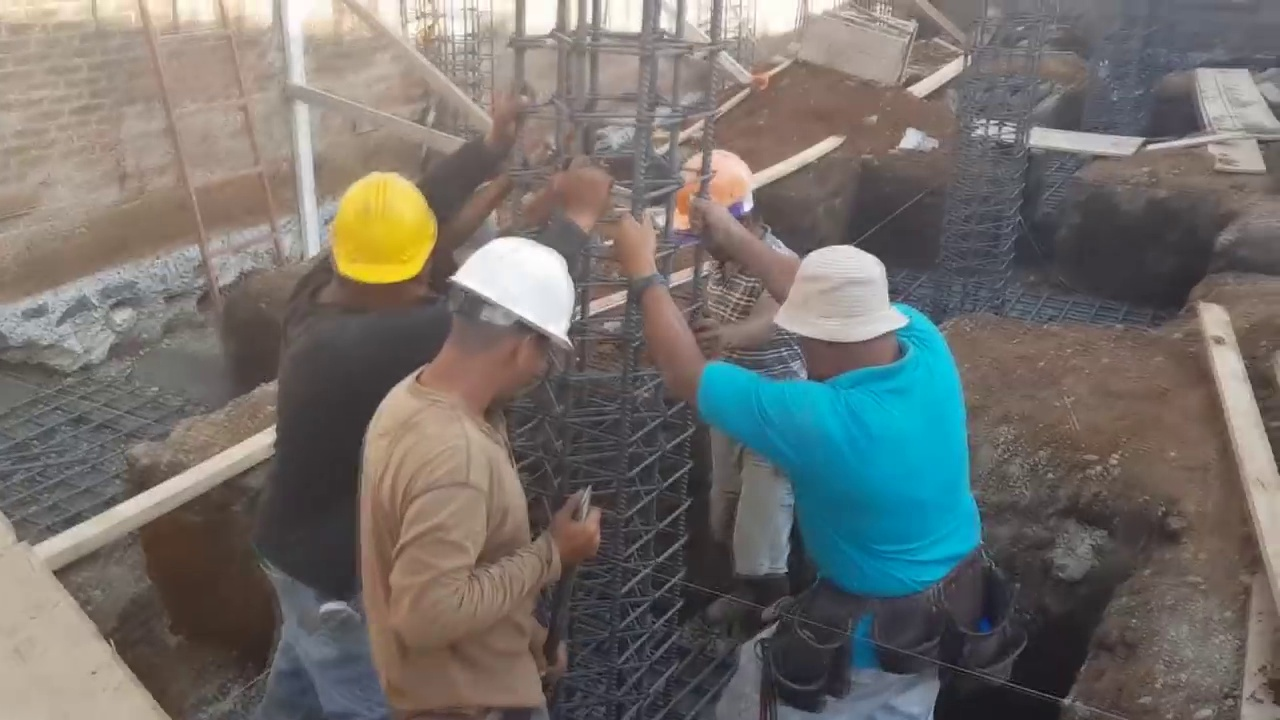helmet: (444, 238, 575, 351), (329, 175, 438, 286), (675, 152, 759, 216)
helmet-off: (767, 247, 909, 389)
helmet-on: (412, 231, 578, 414), (311, 173, 439, 316), (675, 150, 772, 270)
person: (217, 91, 610, 717), (615, 212, 981, 720), (361, 230, 597, 720), (677, 137, 826, 633), (677, 138, 825, 381)
